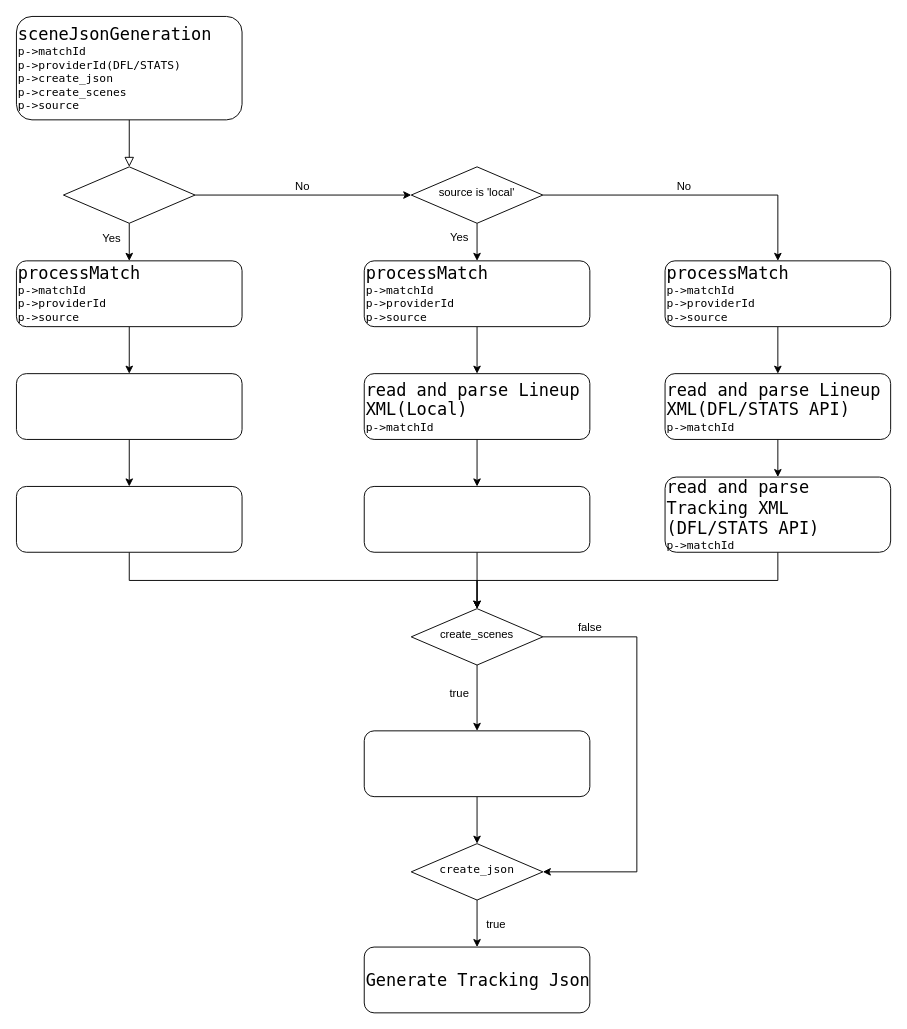
This 907x1029 diagram has some shape labels left out. The centre of each missing label's shape, as x and y in pixels:
Generate Scenes: point (476, 763)
read and parse Lineup XML(S3) p->matchId: point (129, 406)
read and parse Tracking XML(Local) p->matchId: point (476, 519)
read and parse Tracking XML(S3) p->matchId: point (129, 519)
source is 'S3': point (129, 194)
